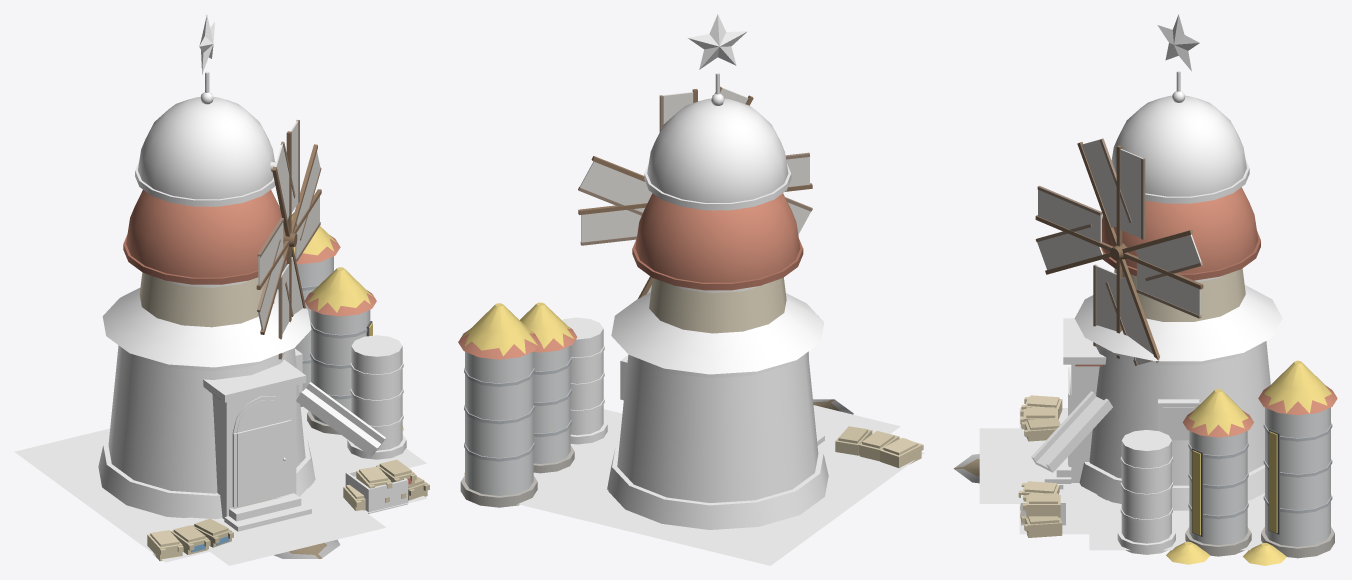
File: feed_mill_3.glb
3 renders of one model, left to right at view 1: azimuth 30°, elevation 25°; view 2: azimuth 150°, elevation 25°; view 3: azimuth 270°, elevation 25°, orthographic. The views are drawn at different scales.
Visible parts, largest first — view 1: when_plan_true, body6, feed_mill_3, spin_55_0, body5, body4, body; view 2: when_plan_true, body6, feed_mill_3, spin_55_0, body4, body5, body; view 3: when_plan_true, body6, spin_55_0, body5, body4, feed_mill_3, body, body3, body2.
Part boxes in pixels (box(x1,y1,x2,y2)): when_plan_true: box(14, 14, 426, 565); body6: box(123, 190, 429, 561); feed_mill_3: box(31, 409, 410, 538); spin_55_0: box(256, 119, 321, 359); body5: box(257, 141, 321, 334); body4: box(291, 212, 403, 430); body: box(285, 235, 376, 336); when_plan_true: box(517, 14, 924, 565); body6: box(460, 193, 923, 507); feed_mill_3: box(527, 411, 892, 558); spin_55_0: box(578, 89, 812, 245); body4: box(461, 302, 573, 474); body5: box(578, 86, 812, 298); body: box(458, 327, 576, 359); when_plan_true: box(955, 14, 1282, 554); body6: box(953, 187, 1334, 558); spin_55_0: box(1035, 145, 1203, 358); body5: box(1035, 138, 1202, 365); body4: box(1166, 360, 1331, 565); feed_mill_3: box(991, 413, 1264, 545); body: box(1183, 385, 1337, 536); body3: box(1192, 465, 1277, 534); body2: box(1192, 499, 1277, 535).
Size of the model in its own units: 2.7 by 3.67 by 2.8.
